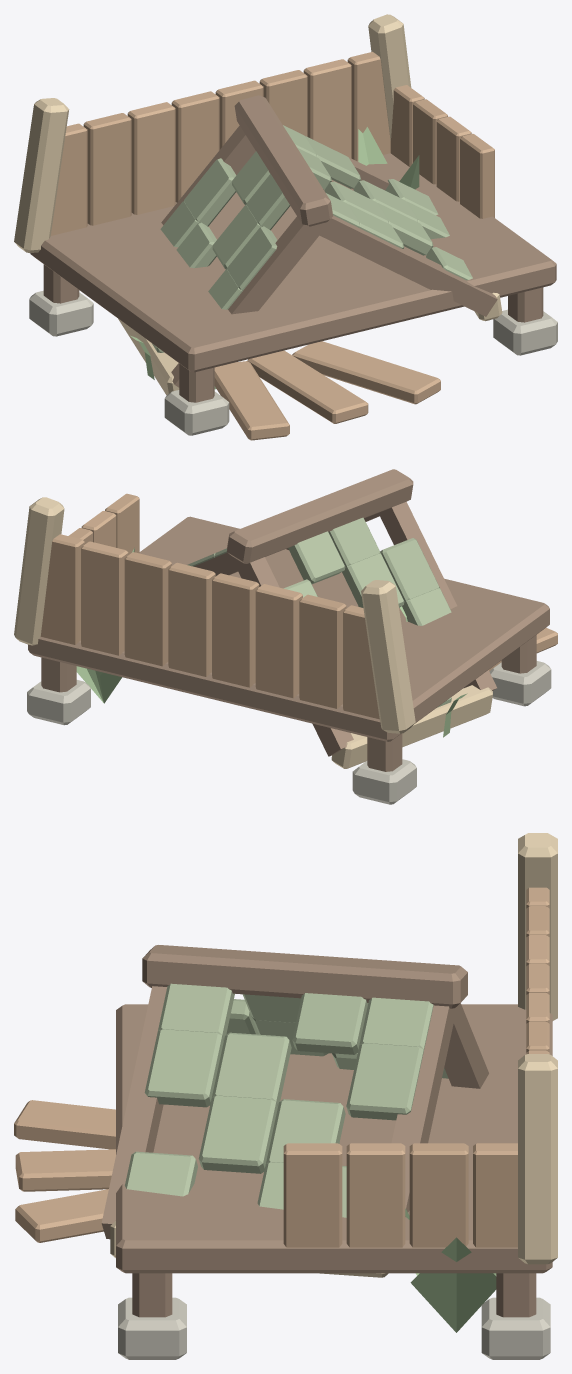
File: crafted-coop-1-abandoned.glb
The picture shows the model from 3 angles, top to bottom: view 1: azimuth 30°, elevation 25°; view 2: azimuth 150°, elevation 25°; view 3: azimuth 270°, elevation 25°; orthographic projection. The views are drawn at different scales.
Parts seen in each view (by area): view 1: floor, broken-upright, fallen-ridge-cap, siding-2, siding-1, fallen-barge-board-3, fallen-siding-2, fallen-siding-1, siding-6, siding-3, fallen-siding, siding-7 (+35 smaller); view 2: floor, fallen-ridge-cap, broken-upright, siding-5, siding-2, siding-1, siding-3, siding-4, siding-6, broken-upright-1, siding-7, fallen-eave-fascia (+19 smaller); view 3: floor, fallen-ridge-cap, broken-upright-1, siding-11, siding-10, siding-9, fallen-roof-tile-17, fallen-roof-tile-15, fallen-barge-board-3, fallen-roof-tile-13, siding-8, fallen-roof-tile-14 (+25 smaller).
Boxes of the visible parts, x1,y1,x2,y2 form: floor: (30,153,556,372); broken-upright: (14,98,69,252); fallen-ridge-cap: (234,95,332,226); siding-2: (127,102,175,214); siding-1: (83,113,131,225); fallen-barge-board-3: (313,215,497,316); fallen-siding-2: (292,341,440,404); fallen-siding-1: (247,350,368,423); siding-6: (303,59,351,158); siding-3: (171,91,219,202); fallen-siding: (214,361,289,440); siding-7: (347,51,390,161); floor: (28,516,549,741); fallen-ridge-cap: (227,469,413,563); broken-upright: (361,580,415,733); siding-5: (124,552,171,666); siding-2: (255,584,302,698); siding-1: (299,594,346,708); siding-3: (212,573,259,687); siding-4: (168,562,215,676); siding-6: (81,541,128,655); broken-upright-1: (14,497,64,645); siding-7: (40,534,84,644); fallen-eave-fascia: (331,685,492,768); floor: (116,1004,552,1273); fallen-ridge-cap: (142,945,467,1008); broken-upright-1: (518,1054,557,1264); siding-11: (283,1143,342,1247); siding-10: (346,1143,405,1247); siding-9: (409,1143,468,1247); fallen-roof-tile-17: (198,1095,277,1173); fallen-roof-tile-15: (144,1029,223,1107); fallen-barge-board-3: (101,986,167,1239); fallen-roof-tile-13: (346,1043,423,1120); siding-8: (473,1143,517,1247); fallen-roof-tile-14: (212,1032,291,1106).
Bounding box in the file's own units: 1.7 × 0.8934 × 1.5.
